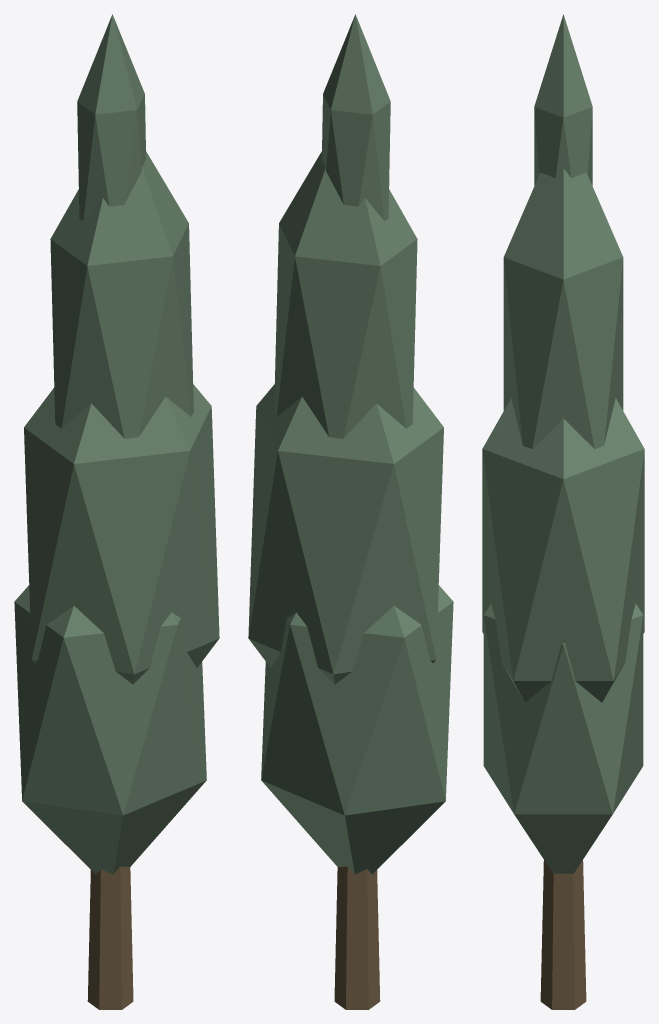
The model's file is cypress.glb.
3 renders of one model, left to right at view 1: azimuth 30°, elevation 25°; view 2: azimuth 150°, elevation 25°; view 3: azimuth 270°, elevation 25°, orthographic.
Parts seen in each view (by area): view 1: cypress_cypress, cypress_oak_dark; view 2: cypress_cypress, cypress_oak_dark; view 3: cypress_cypress, cypress_oak_dark.
Part boxes in pixels (x1,y1,x2,y2): cypress_cypress: (14, 14, 219, 874); cypress_oak_dark: (87, 866, 133, 1009); cypress_cypress: (248, 14, 453, 874); cypress_oak_dark: (334, 866, 380, 1009); cypress_cypress: (482, 14, 644, 873); cypress_oak_dark: (540, 860, 586, 1009).
Bounding box in the file's own units: 1.15 × 5.72 × 0.851.
